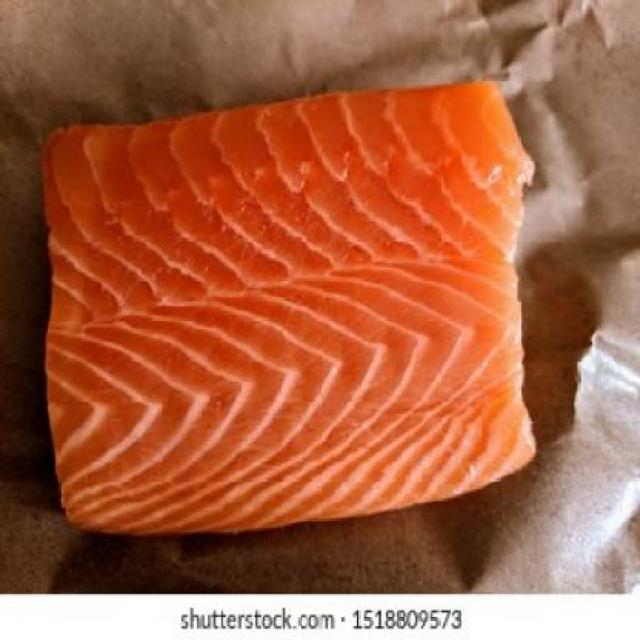salmon: (29, 92, 550, 542)
